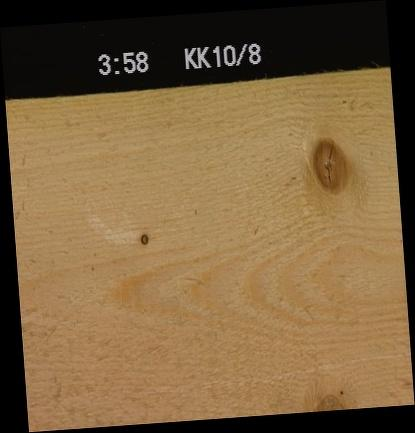dry_knot: (137, 229, 149, 245)
edge_knot: (308, 389, 348, 410)
sound_knot: (309, 135, 350, 195)
